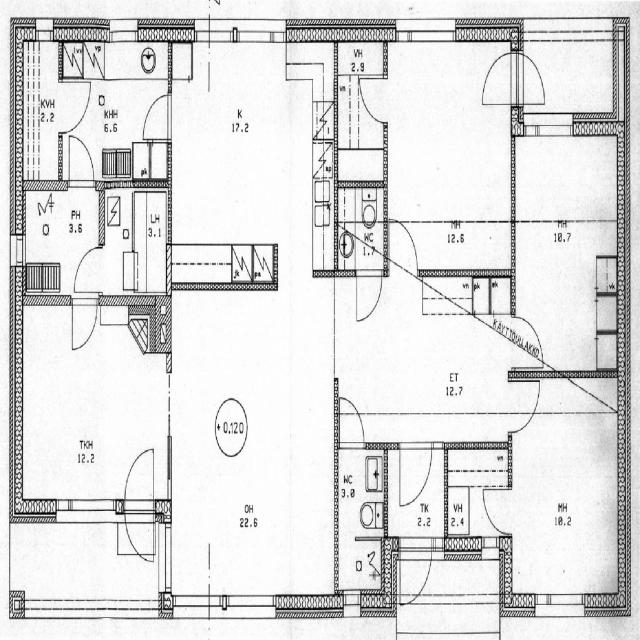door: (122, 441, 156, 522), (397, 438, 435, 510), (478, 46, 517, 110), (398, 538, 434, 603), (58, 75, 92, 138), (70, 292, 100, 354), (518, 49, 548, 110), (389, 219, 420, 276), (337, 394, 367, 452), (71, 242, 103, 296), (354, 269, 384, 325), (122, 512, 155, 562), (141, 90, 172, 143), (67, 132, 96, 186), (480, 484, 509, 534), (358, 73, 386, 124)
window: (55, 494, 118, 524), (534, 593, 586, 620), (398, 24, 456, 47), (225, 593, 276, 619), (233, 21, 285, 45), (158, 521, 174, 594), (524, 117, 574, 140), (108, 18, 139, 44), (164, 88, 173, 144)
zone: (172, 38, 293, 280), (387, 40, 509, 271), (16, 316, 158, 506), (339, 286, 505, 439), (508, 406, 623, 604), (514, 181, 616, 374), (84, 40, 167, 151), (20, 188, 101, 291), (16, 45, 64, 184), (119, 186, 170, 296), (336, 450, 387, 536), (103, 188, 135, 298), (336, 534, 386, 598), (446, 447, 506, 488), (336, 147, 387, 188), (133, 139, 171, 187), (336, 42, 383, 77), (481, 485, 509, 536), (446, 486, 469, 537)
